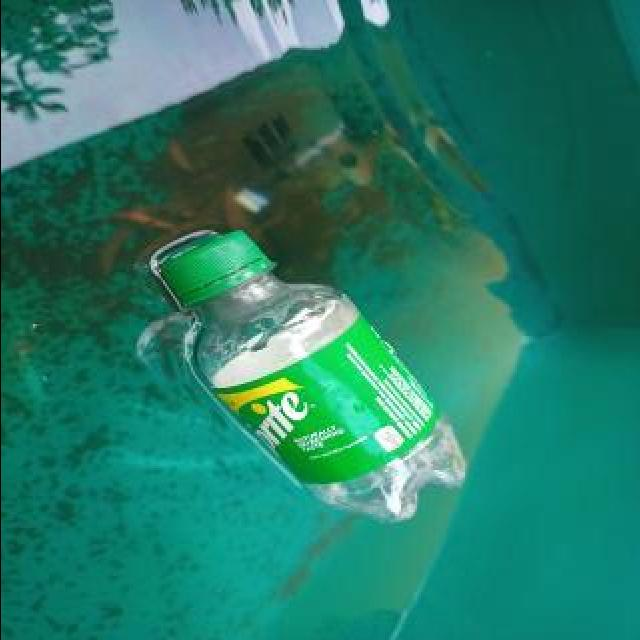Bottle: (145, 204, 478, 530)
